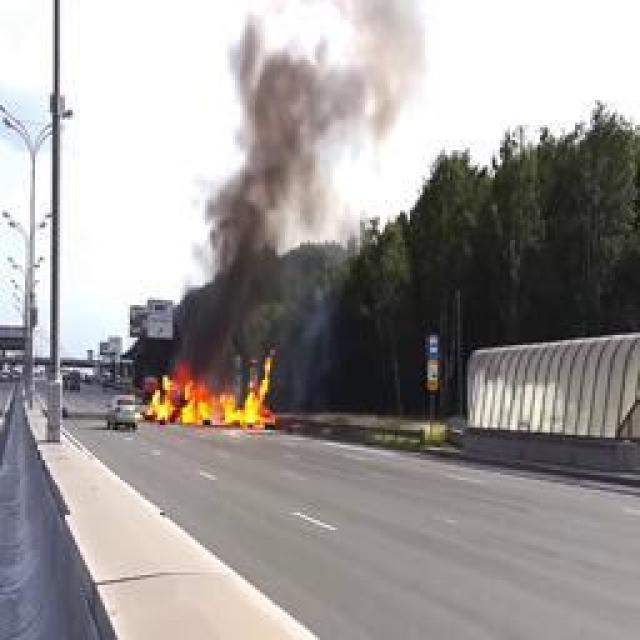Fire: (144, 354, 282, 428)
